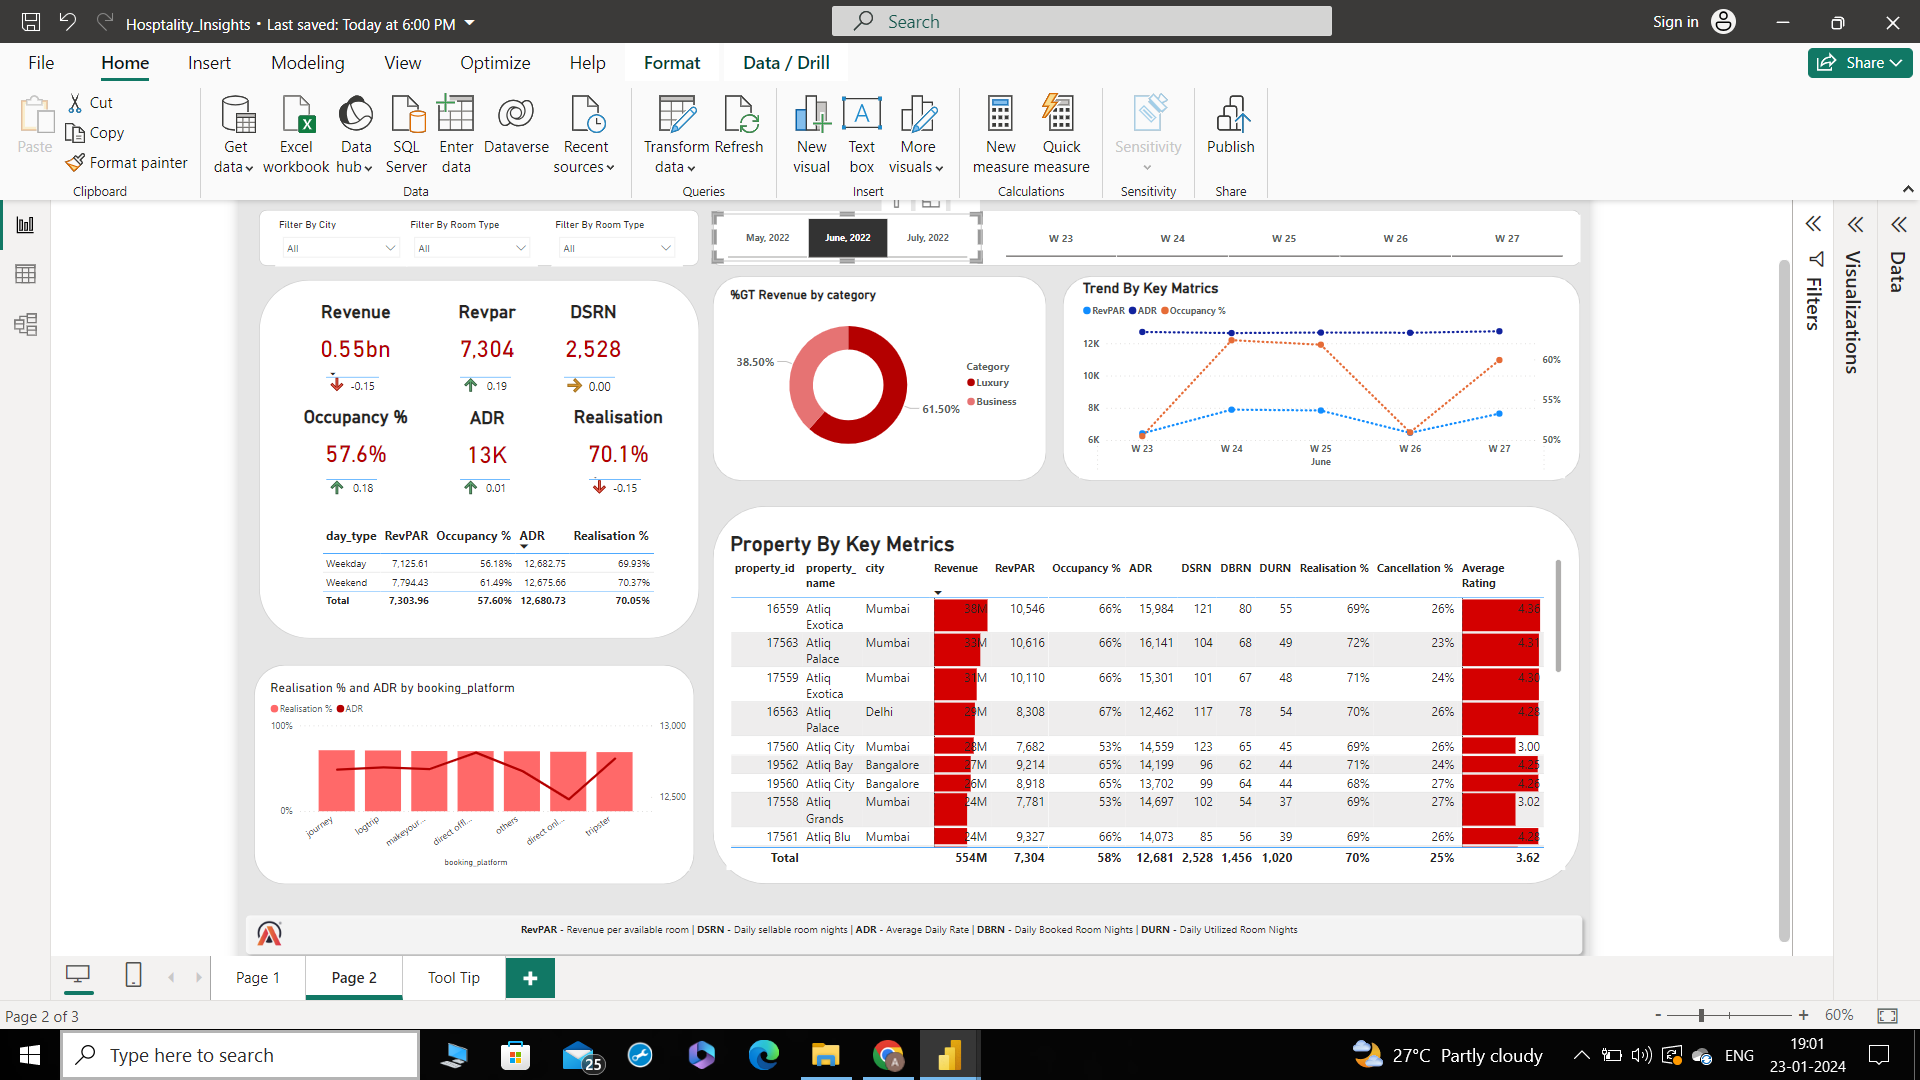

The dashboard page shown, as its layout file describes it:
{"tool":"powerbi","page":{"name":"Page 2","canvas":[1800,1100],"ordinal":1},"visuals":[{"type":"shape","box":[0,1016,1800,70],"z":0},{"type":"shape","box":[20,691.4,587.1,292.9],"z":1000},{"type":"shape","box":[632,480,1156,504],"z":2000},{"type":"shape","box":[1098.3,173.3,690,273.3],"z":3000},{"type":"shape","box":[631.7,173.3,445,273.3],"z":4000},{"type":"shape","box":[631.7,85,1156.7,75],"z":5000},{"type":"shape","box":[27.1,178.6,587.1,478.6],"z":6000},{"type":"shape","box":[26.7,85,586.7,75],"z":7000},{"type":"tableEx","title":"Property By Key Metrics","fields":{"Values":["dim_hotels.property_id","dim_hotels.property_name","dim_hotels.city","key_measures (2).Revenue","key_measures (2).RevPAR","key_measures (2).Occupancy %","key_measures (2).ADR","key_measures (2).DSRN","key_measures (2).DBRN","key_measures (2).DURN","key_measures (2).Realisation %","key_measures (2).Cancellation %"]},"box":[650,515.7,1118.6,450],"z":8000},{"type":"slicer","title":"Filter By City","fields":{"Values":["dim_hotels.city"]},"box":[48,96,176,64],"z":9000},{"type":"slicer","title":"Filter By Room Type","fields":{"Values":["dim_rooms.room_class"]},"box":[417,96,175,64],"z":10000},{"type":"slicer","fields":{"Values":["dim_date.mmm yy"]},"box":[631.7,90,358.3,65],"z":11000},{"type":"slicer","fields":{"Values":["dim_date.week no"]},"box":[996.7,91.7,791.7,63.3],"z":12000},{"type":"tableEx","fields":{"Values":["key_measures (2).\"Revenue WoW change %"]},"box":[110.8,281.5,88.5,57.7],"z":13000},{"type":"donutChart","fields":{"Category":["dim_hotels.category"],"Y":["key_measures (2).Revenue"]},"box":[650,188.3,405,241.7],"z":14000},{"type":"lineStackedColumnComboChart","fields":{"Category":["fact_bookings.booking_platform"],"Y":["key_measures (2).Realisation %"],"Y2":["key_measures (2).ADR"]},"box":[37.1,711.4,564.3,254.3],"z":15000},{"type":"lineChart","title":"Trend By Key Matrics","fields":{"Category":["dim_date.mmm yy.Variation.Date Hierarchy.Month","dim_date.week no"],"Y2":["key_measures (2).Occupancy %"],"Y":["key_measures (2).RevPAR","key_measures (2).ADR"]},"box":[1120,178.3,648.3,265],"z":16000},{"type":"tableEx","fields":{"Values":["dim_date.day_type","key_measures (2).RevPAR","key_measures (2).Occupancy %","key_measures (2).ADR","key_measures (2).Realisation %"]},"box":[105,500,455,126.7],"z":17000},{"type":"slicer","title":"Filter By Room Type","fields":{"Values":["dim_rooms.room_class"]},"box":[224,96,175,64],"z":18000},{"type":"image","box":[0,1028,81.3,42.7],"z":20000},{"type":"textbox","box":[345,1029.6,1093.6,39],"z":21000},{"type":"tableEx","fields":{"Values":["key_measures (2).\"DSRN WoW change %"]},"box":[426.9,281.5,88.5,56.2],"z":22000},{"type":"tableEx","fields":{"Values":["key_measures (2).\"Revpar WoW change %"]},"box":[287.7,281.5,89.2,55.4],"z":23000},{"type":"card","title":"DSRN","fields":{"Values":["key_measures (2).DSRN"]},"box":[384.3,206.8,175,95],"z":24000},{"type":"card","title":"Revpar","fields":{"Values":["key_measures (2).RevPAR"]},"box":[242.7,206.5,175,95],"z":25000},{"type":"card","title":"Revenue","fields":{"Values":["key_measures (2).Revenue"]},"box":[67.7,206.5,175,95],"z":26000},{"type":"tableEx","fields":{"Values":["key_measures (2).\"Occupancy WoW change %"]},"box":[110.8,417.7,88.5,57.7],"z":27000},{"type":"card","title":"Occupancy %","fields":{"Values":["key_measures (2).Occupancy %"]},"box":[67.7,347.5,175,95],"z":28000},{"type":"tableEx","fields":{"Values":["key_measures (2).\"ADR WoW change %"]},"box":[287.7,417.7,88.5,57.7],"z":29000},{"type":"tableEx","fields":{"Values":["key_measures (2).\"Revenue WoW change %"]},"box":[460,418.5,88.5,57.7],"z":30000},{"type":"card","title":"ADR","fields":{"Values":["key_measures (2).ADR"]},"box":[242.7,348.5,175,95],"z":31000},{"type":"card","title":"Realisation","fields":{"Values":["key_measures (2).Realisation %"]},"box":[417.7,347.5,175,95],"z":31500}]}

Visuals, with their boxes on the page's 1800x1100 design canvas (x1, y1, x2, y2). These are canvas units, not pixel positions in the 1920x1080 screenshot, which may show the page scaled, cropped or inside an application window:
shape: [left=0, top=1016, right=1800, bottom=1086]
shape: [left=20, top=691, right=607, bottom=984]
shape: [left=632, top=480, right=1788, bottom=984]
shape: [left=1098, top=173, right=1788, bottom=447]
shape: [left=632, top=173, right=1077, bottom=447]
shape: [left=632, top=85, right=1788, bottom=160]
shape: [left=27, top=179, right=614, bottom=657]
shape: [left=27, top=85, right=613, bottom=160]
"Property By Key Metrics" tableEx: [left=650, top=516, right=1769, bottom=966]
"Filter By City" slicer: [left=48, top=96, right=224, bottom=160]
"Filter By Room Type" slicer: [left=417, top=96, right=592, bottom=160]
slicer - dim_date.mmm yy: [left=632, top=90, right=990, bottom=155]
slicer - dim_date.week no: [left=997, top=92, right=1788, bottom=155]
tableEx - key_measures (2)."Revenue WoW change %: [left=111, top=282, right=199, bottom=339]
donutChart - dim_hotels.category x key_measures (2).Revenue: [left=650, top=188, right=1055, bottom=430]
lineStackedColumnComboChart - fact_bookings.booking_platform x key_measures (2).Realisation %: [left=37, top=711, right=601, bottom=966]
"Trend By Key Matrics" lineChart: [left=1120, top=178, right=1768, bottom=443]
tableEx - dim_date.day_type x key_measures (2).RevPAR: [left=105, top=500, right=560, bottom=627]
"Filter By Room Type" slicer: [left=224, top=96, right=399, bottom=160]
image: [left=0, top=1028, right=81, bottom=1071]
textbox: [left=345, top=1030, right=1439, bottom=1069]
tableEx - key_measures (2)."DSRN WoW change %: [left=427, top=282, right=515, bottom=338]
tableEx - key_measures (2)."Revpar WoW change %: [left=288, top=282, right=377, bottom=337]
"DSRN" card: [left=384, top=207, right=559, bottom=302]
"Revpar" card: [left=243, top=206, right=418, bottom=302]
"Revenue" card: [left=68, top=206, right=243, bottom=302]
tableEx - key_measures (2)."Occupancy WoW change %: [left=111, top=418, right=199, bottom=475]
"Occupancy %" card: [left=68, top=348, right=243, bottom=442]
tableEx - key_measures (2)."ADR WoW change %: [left=288, top=418, right=376, bottom=475]
tableEx - key_measures (2)."Revenue WoW change %: [left=460, top=418, right=548, bottom=476]
"ADR" card: [left=243, top=348, right=418, bottom=444]
"Realisation" card: [left=418, top=348, right=593, bottom=442]
